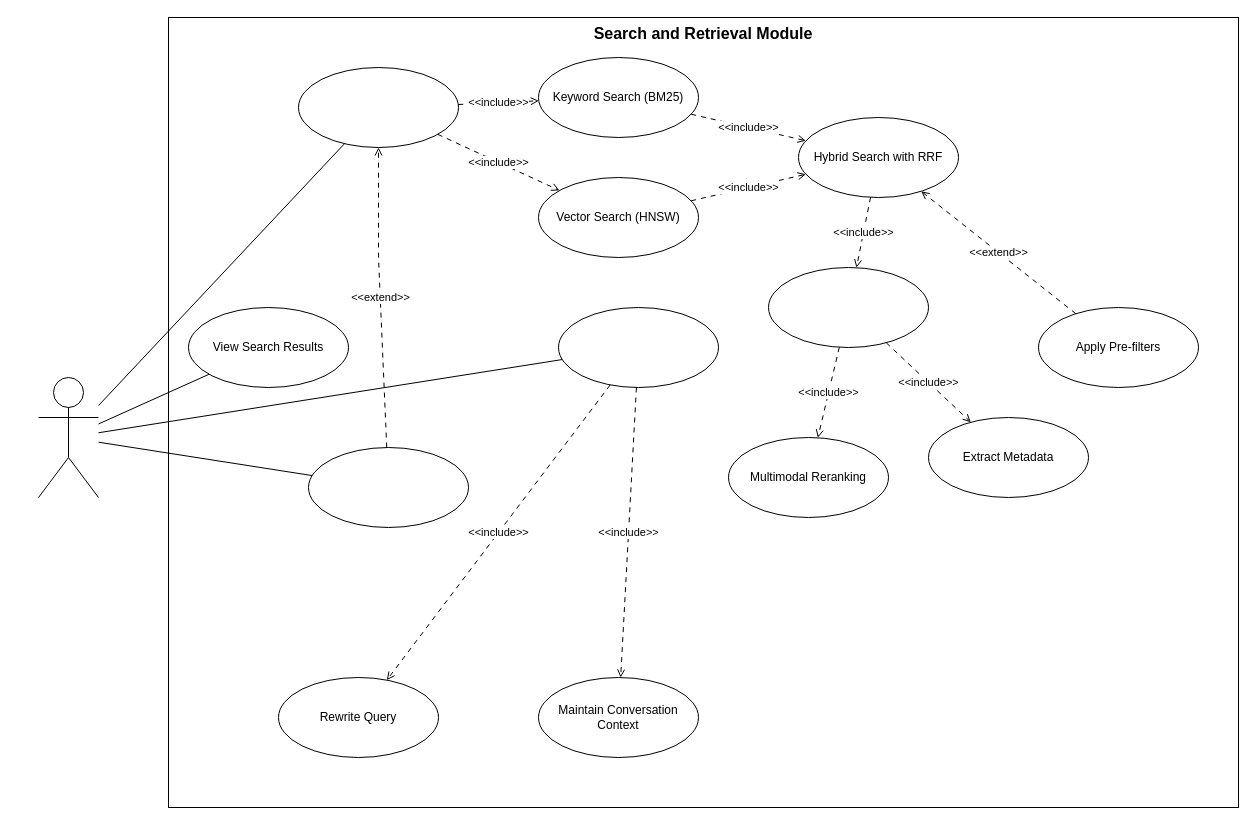
Image size: 1256x825. Some labels were removed from this diagram. Each missing label, with the centre of its shape:
Ask Follow-up Question: (x=638, y=347)
Authenticated User: (x=68, y=437)
Filter by Metadata: (x=388, y=487)
Return Ranked Chunks: (x=848, y=307)
Submit Search Query: (x=378, y=107)
